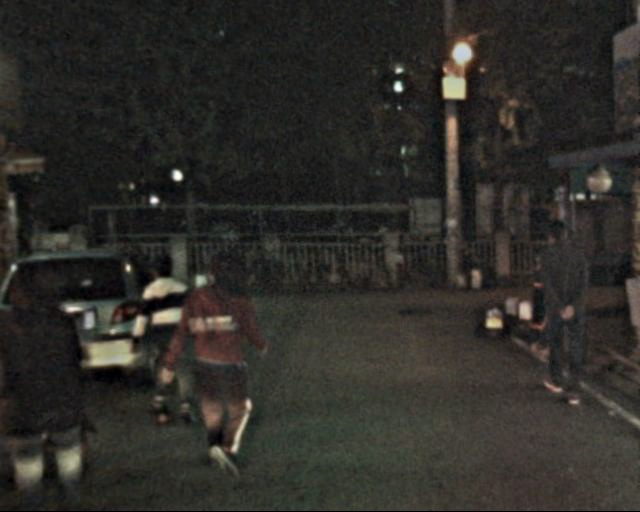person: (11, 251, 104, 511), (172, 243, 265, 482), (524, 208, 596, 415), (128, 245, 197, 434)
